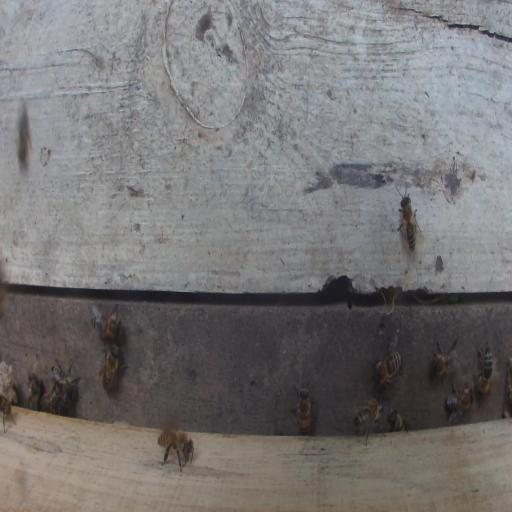nonpollenbee: (396, 185, 422, 255), (157, 426, 195, 472), (353, 396, 387, 447), (51, 362, 81, 404), (430, 338, 460, 378), (92, 302, 122, 342), (372, 349, 402, 388), (17, 101, 32, 172), (473, 343, 493, 395), (445, 385, 473, 422), (291, 386, 311, 435), (100, 343, 120, 391), (0, 393, 16, 433), (386, 407, 410, 432), (27, 372, 42, 411), (39, 391, 61, 413)
